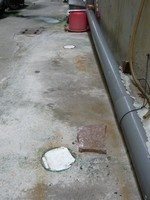bucket: (65, 11, 89, 33)
